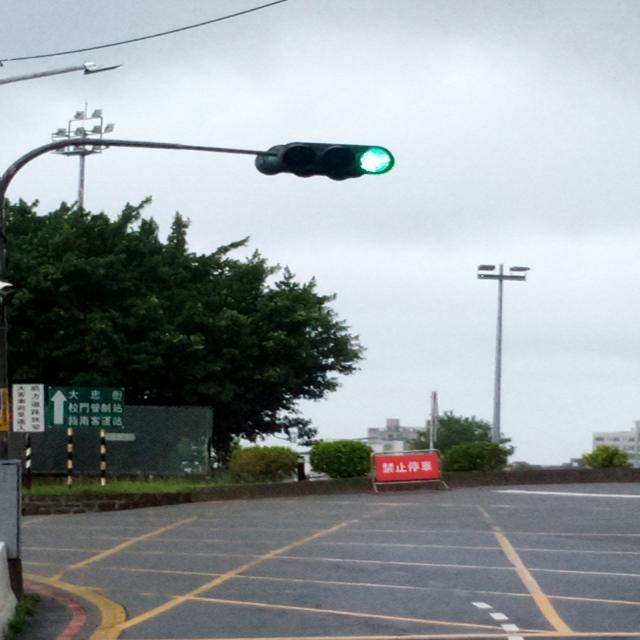green light: (251, 142, 394, 180)
